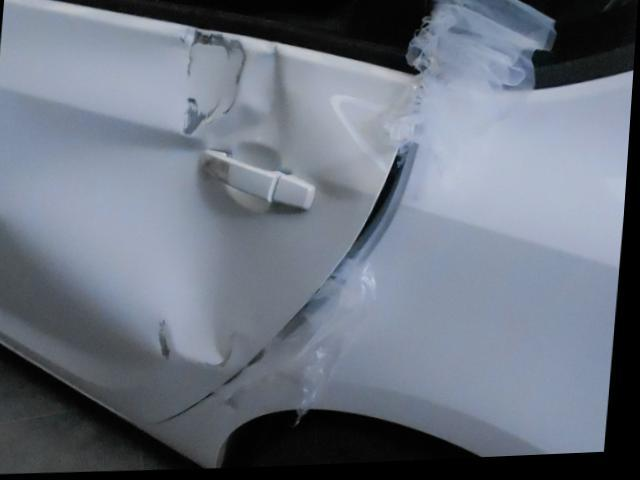crack: (193, 32, 227, 49)
dent: (0, 147, 230, 361), (213, 50, 290, 154), (184, 29, 246, 141), (174, 286, 239, 366)
dislocated part: (162, 86, 434, 431)
rub: (205, 158, 232, 186), (161, 322, 176, 364)
